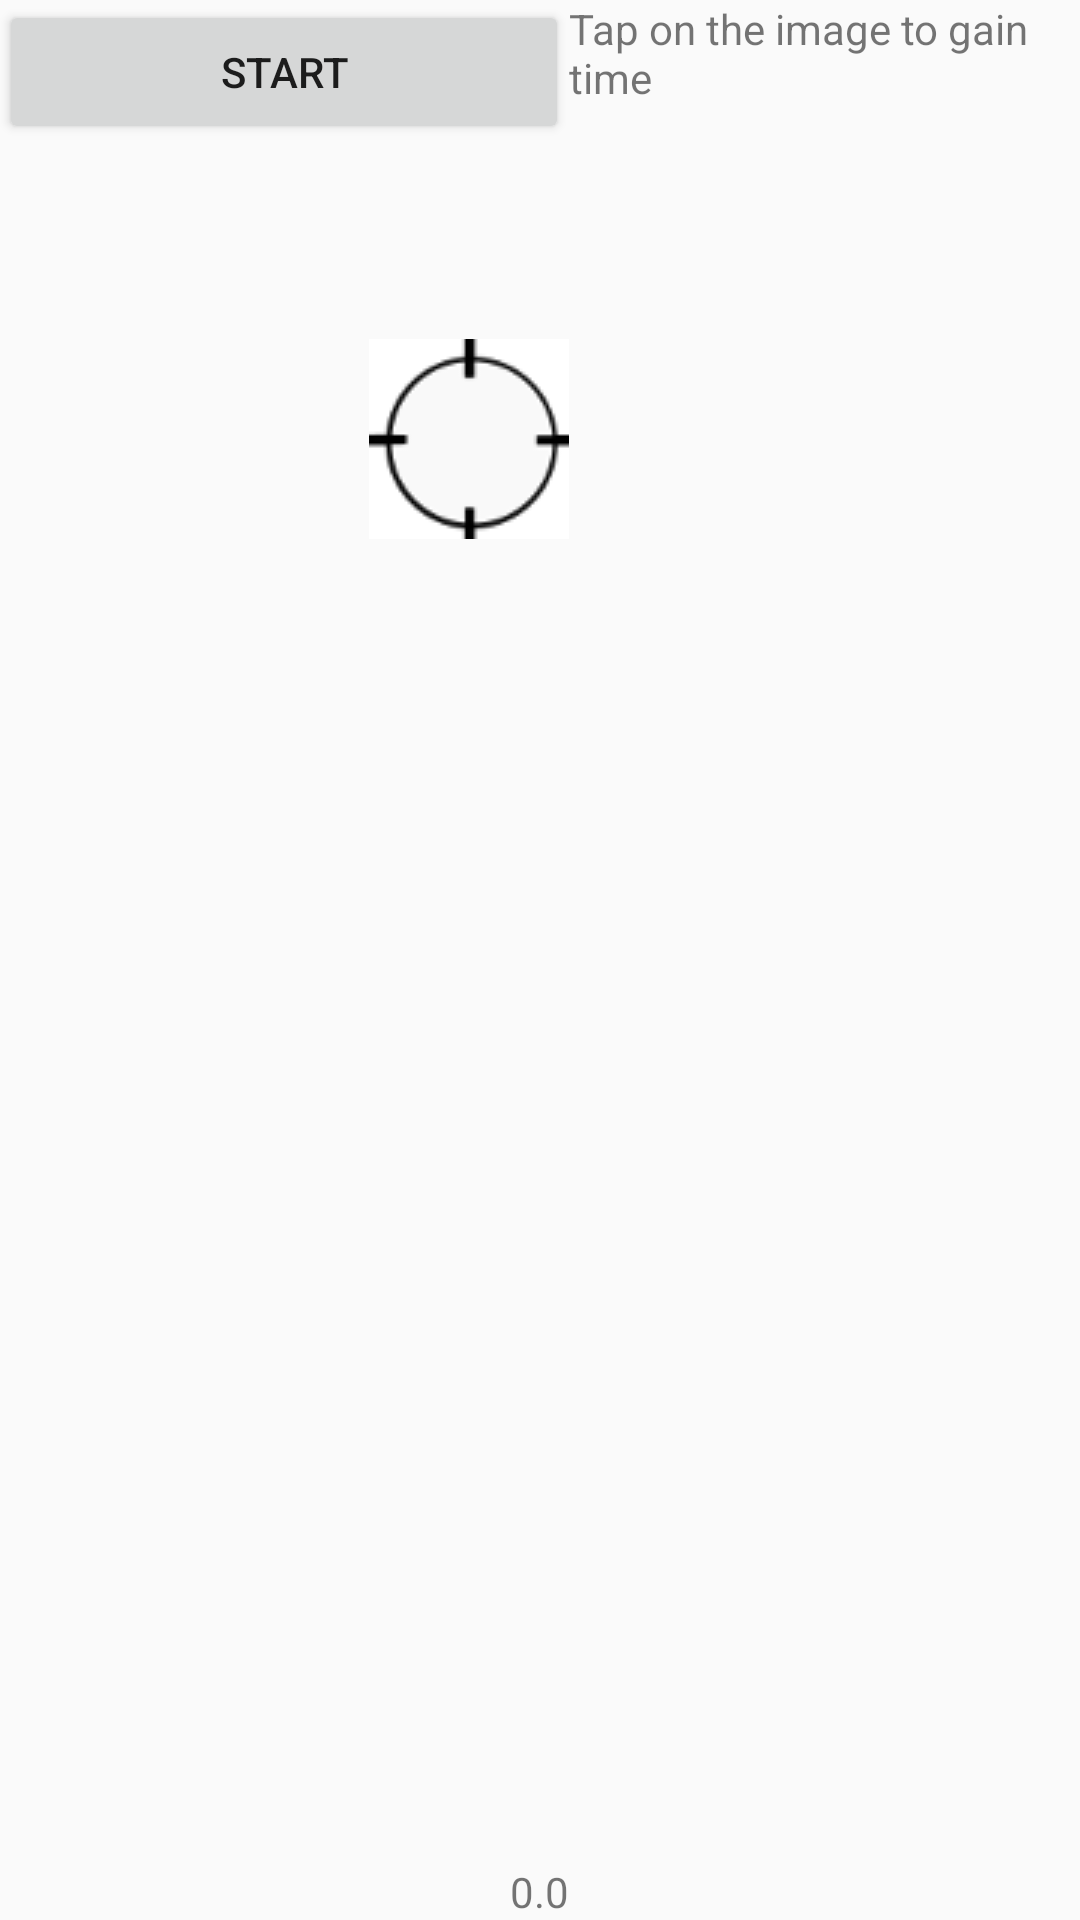

Where to tap for icons on this 1080 × 1920 app screen, as (x,y):
punkt: (469,439)
